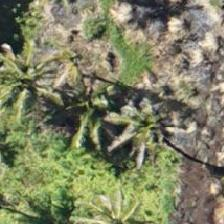coconut_tree: (82, 80, 172, 170), (0, 44, 77, 134), (50, 176, 140, 223)
